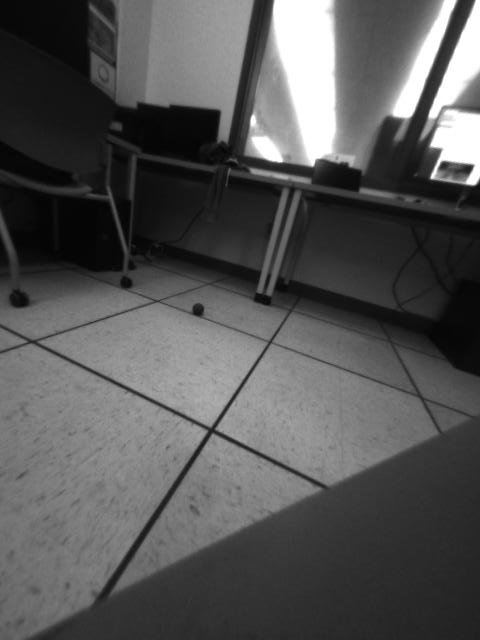dogtoy: (188, 298, 209, 321)
